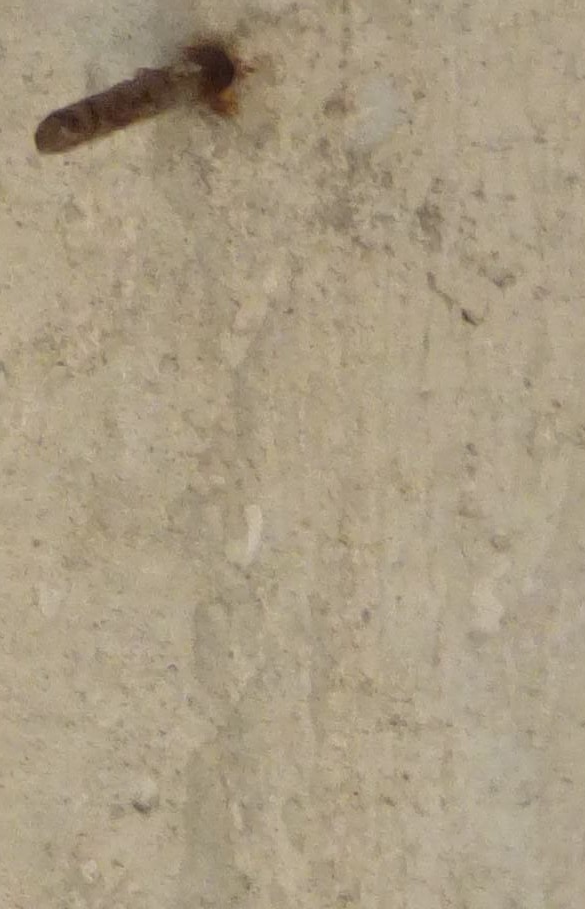Exposed reinforcement: (34, 51, 226, 156)
